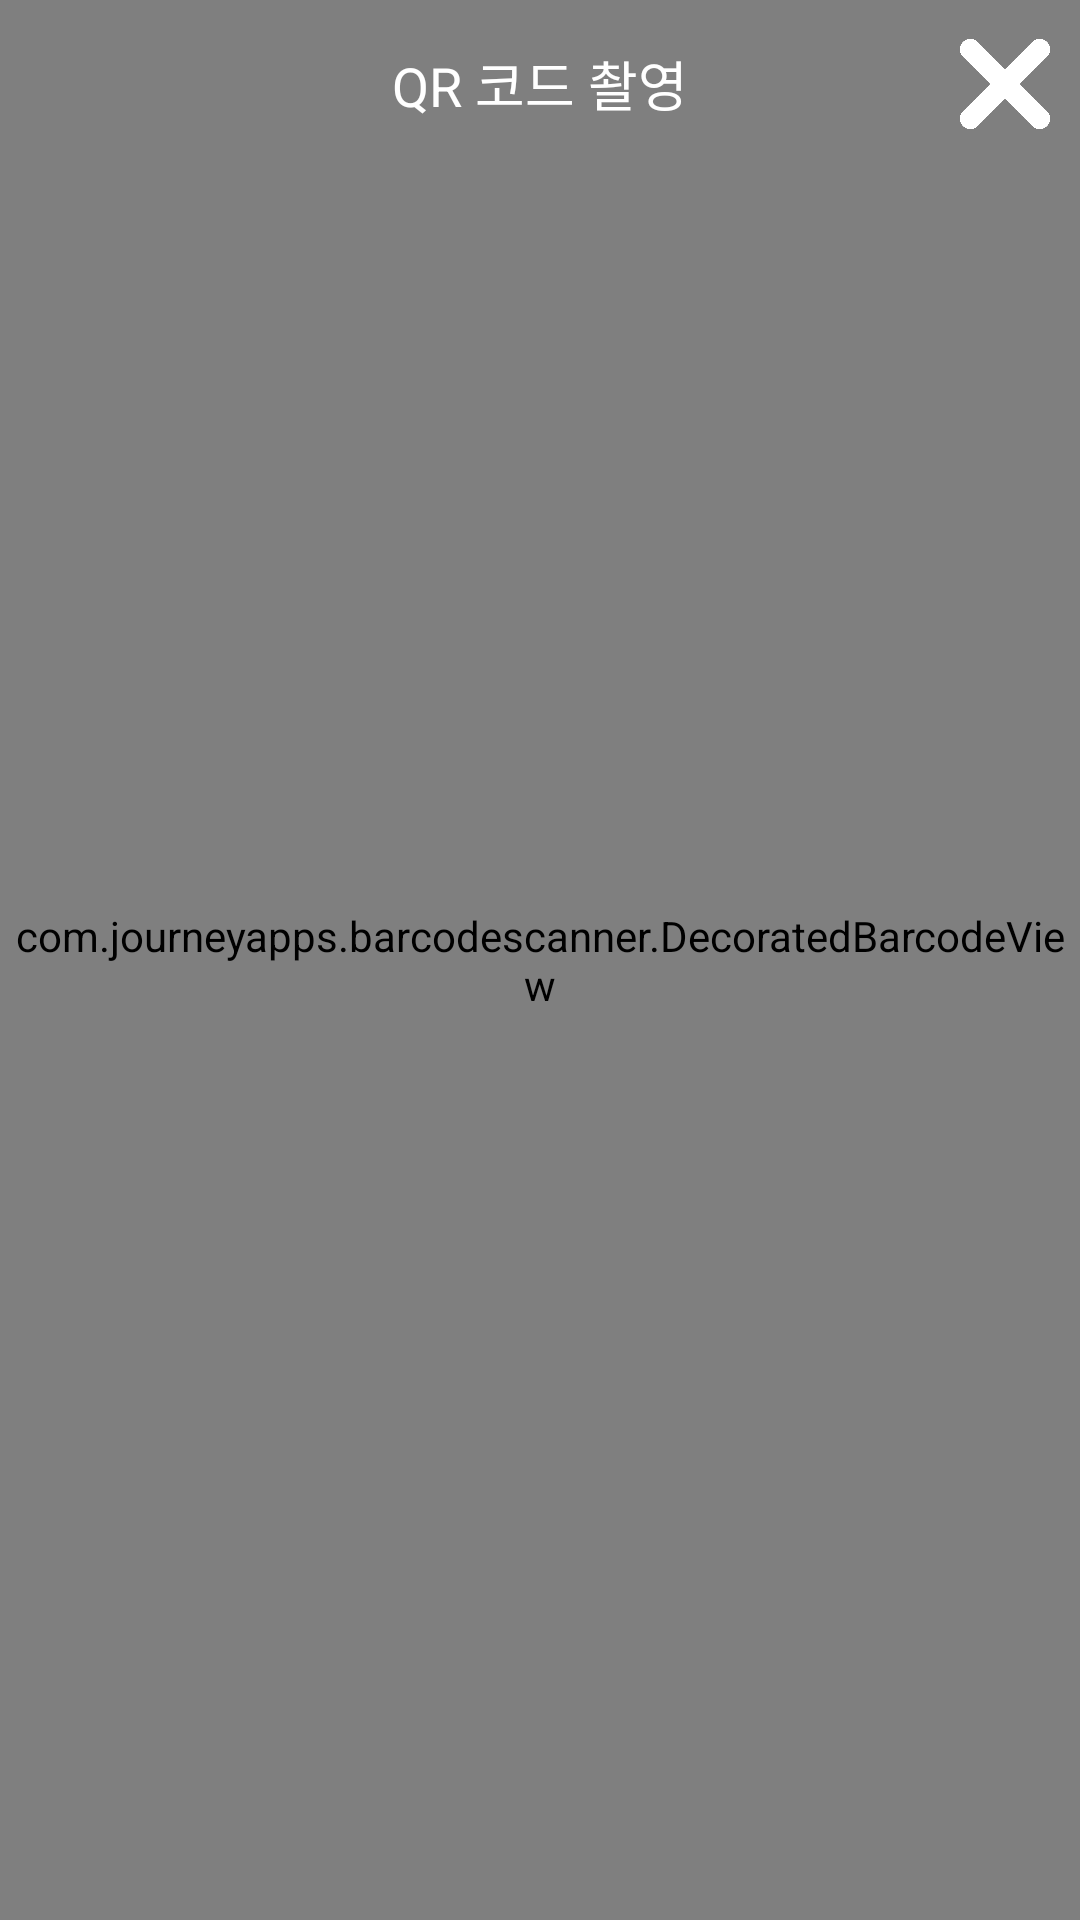

Icons on this 1080*1920 Android screen, each with its box as (x1, y1, x2, y2):
close: (960, 39, 1050, 129)
